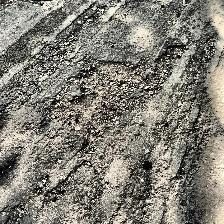pothole: (45, 53, 159, 148), (152, 44, 188, 94)
